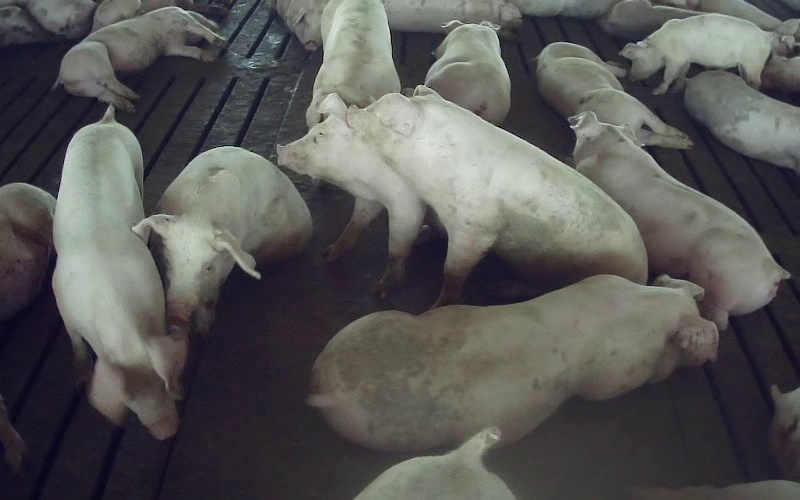pig: (308, 275, 717, 451), (349, 86, 646, 305), (569, 111, 789, 329), (134, 147, 311, 336), (277, 93, 425, 296), (54, 7, 226, 111), (536, 42, 691, 148), (621, 13, 773, 94), (685, 71, 799, 174), (425, 20, 510, 125), (276, 0, 328, 50)
